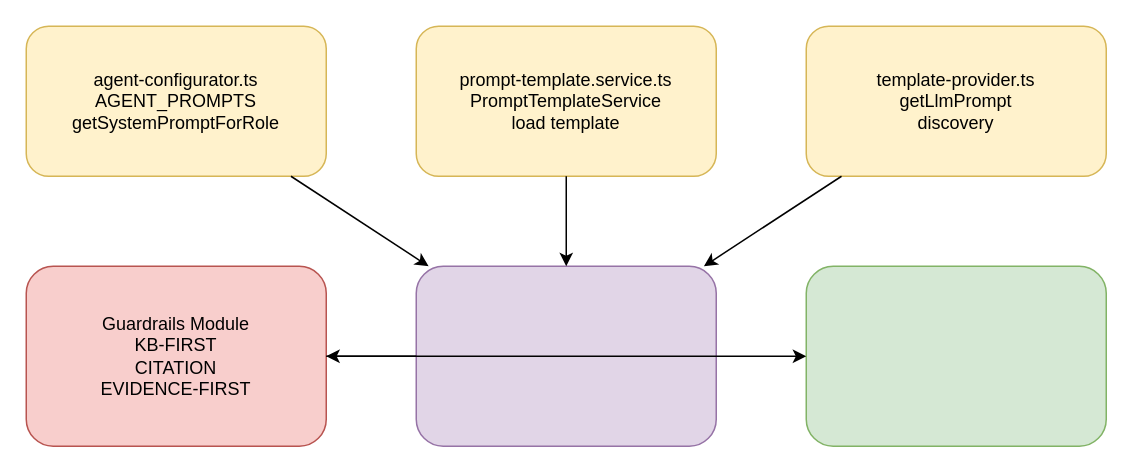
Image size: 1133x473. Some labels were removed from this diagram. Each missing label, with the centre of its shape:
"KB Memory mem_search / mem_ingest" belongs at (x=955, y=355).
"prompts/*.md 8 role templates SM/BA/SA/DEV/QA/DevOps/UI/Security" belongs at (x=565, y=355).
